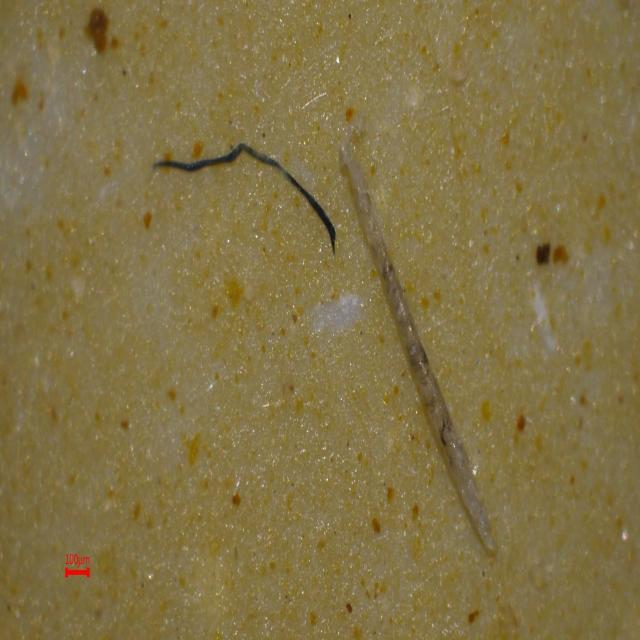fibers: (328, 133, 503, 559), (152, 108, 360, 263)
